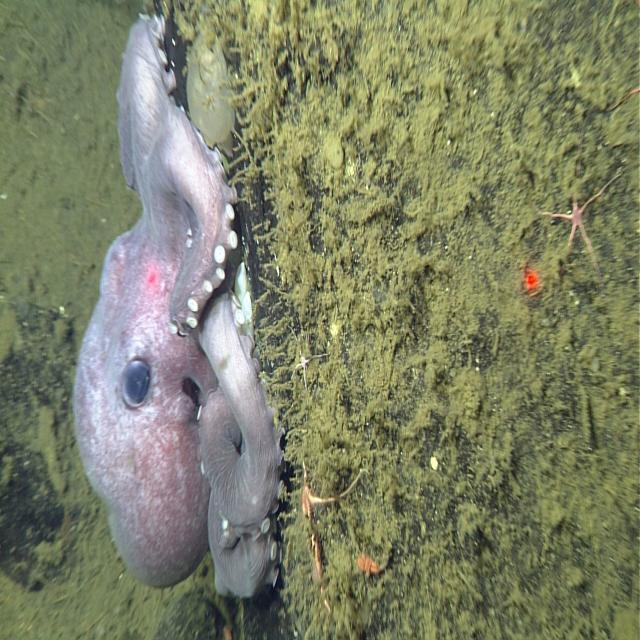Brittle Star: (536, 155, 628, 290)
Not Brittle Star: (61, 4, 295, 612)
